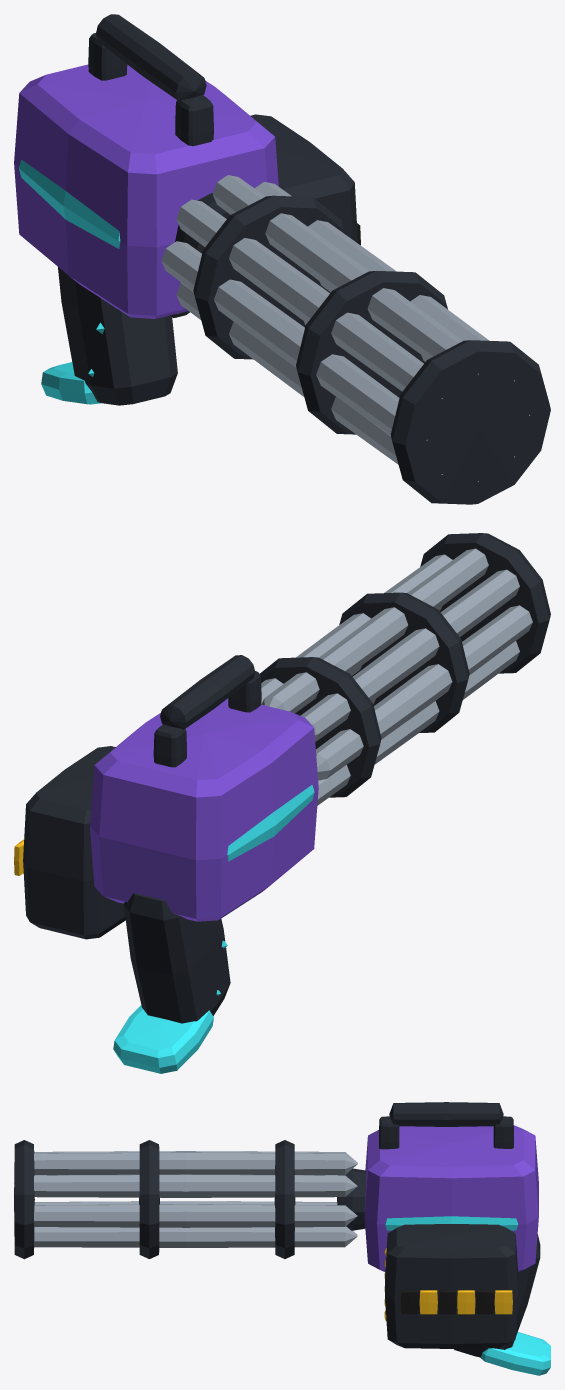
The model's file is g-heavy-2.glb.
The picture shows the model from 3 angles, top to bottom: view 1: azimuth 30°, elevation 25°; view 2: azimuth 150°, elevation 25°; view 3: azimuth 270°, elevation 25°; orthographic projection. The views are drawn at different scales.
Parts seen in each view (by area): view 1: gun; view 2: gun; view 3: gun.
Boxes of the visible parts, bbox=[...] form: gun: bbox=[14, 14, 550, 504]; gun: bbox=[14, 533, 550, 1073]; gun: bbox=[14, 1102, 550, 1375].
Bounding box in the file's own units: 0.38 × 0.5576 × 1.03.
